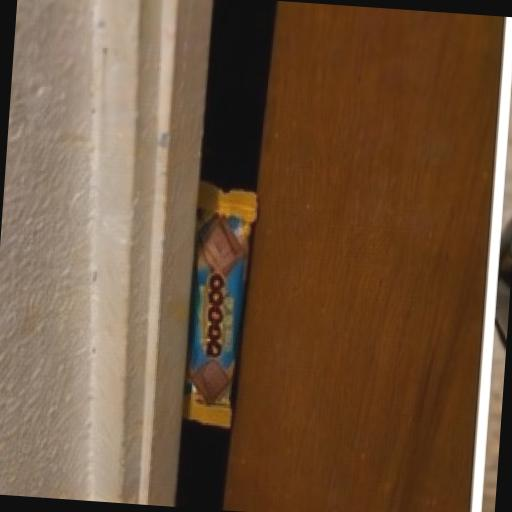nooco: (158, 165, 310, 484)
